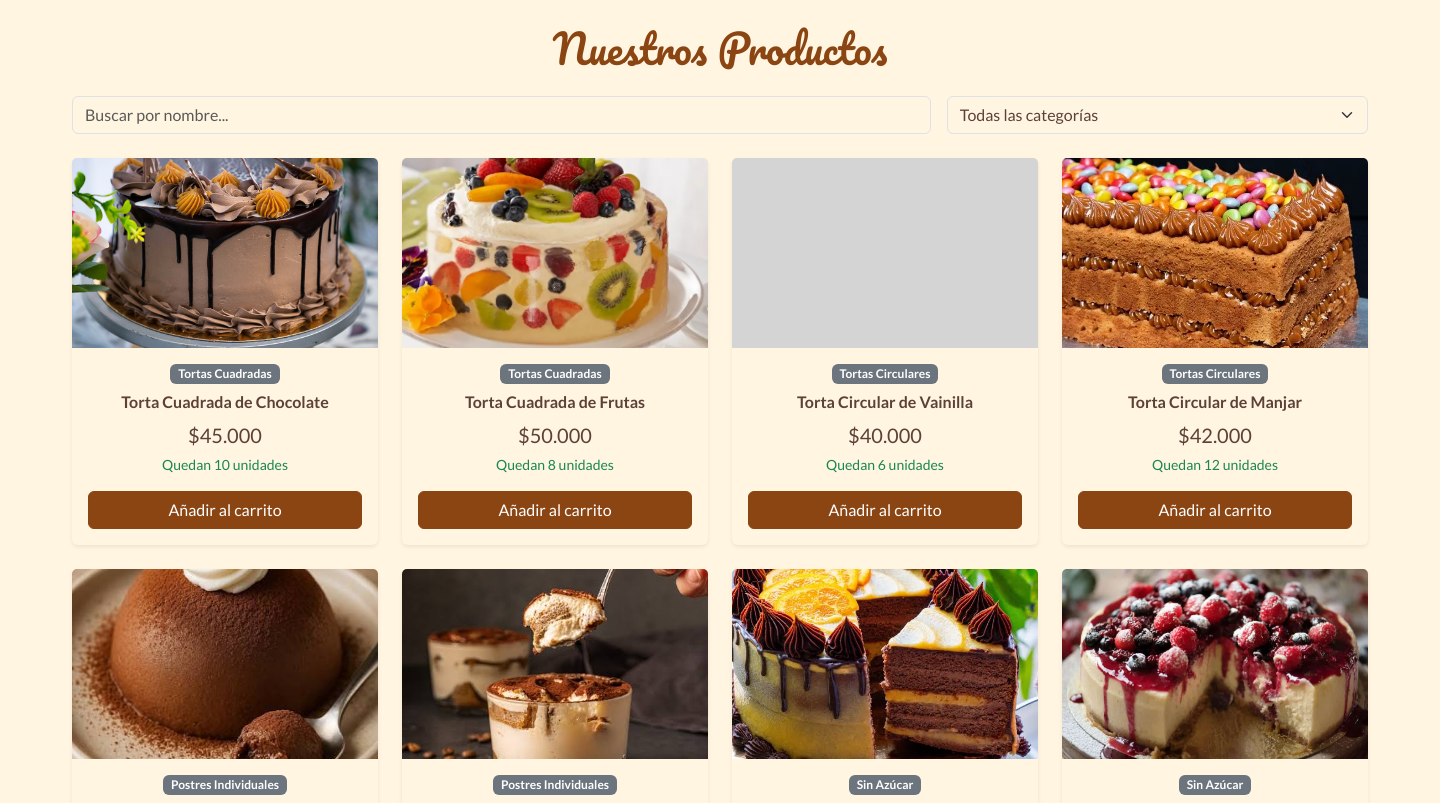
<Productos /> (búsqueda y filtro) › buscar por nombre deja solo los que coinciden
In the search field: (501, 115) [72,96,931,134], type "mousse"
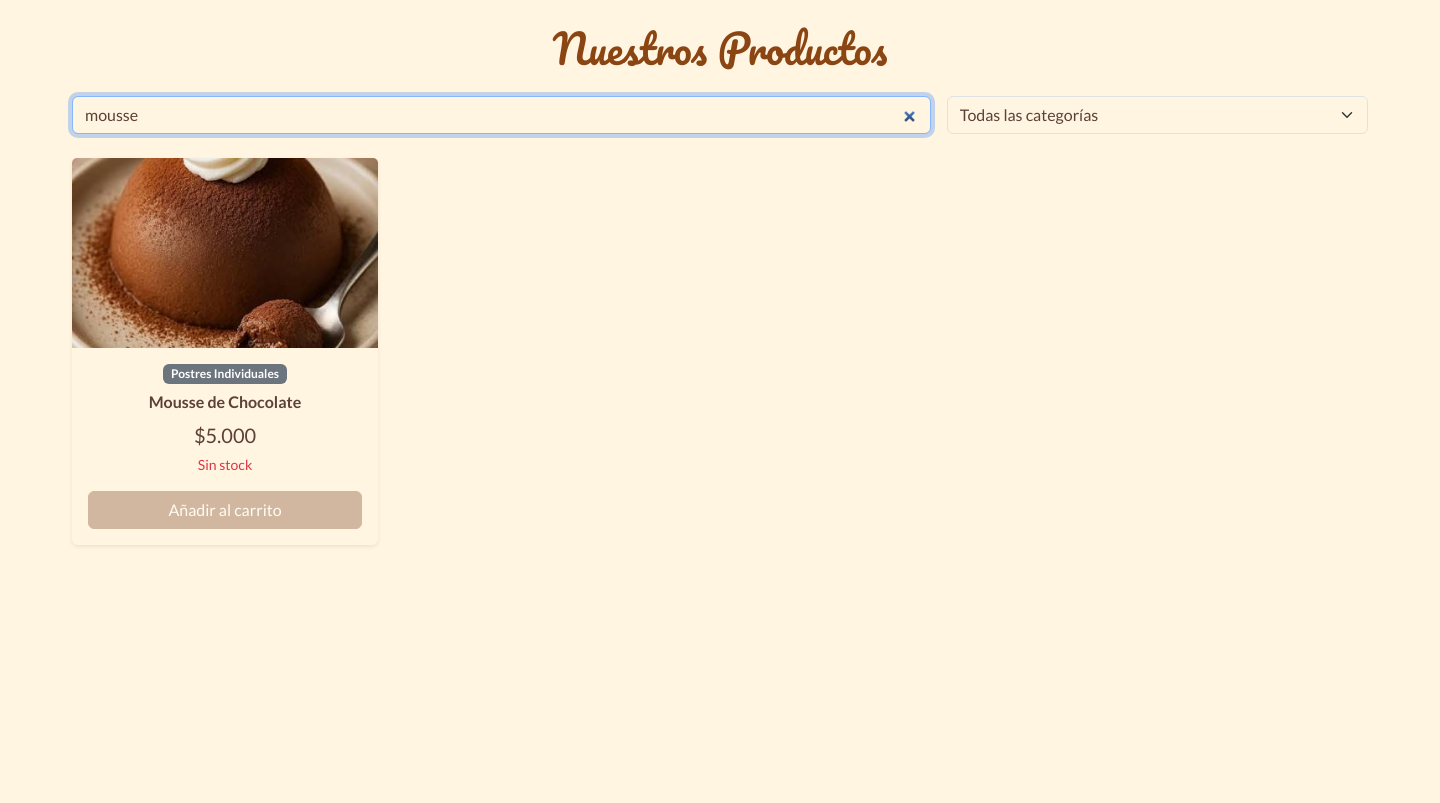
Result: the number of buttons "Añadir al carrito" is 1 at [88,491,362,529]
